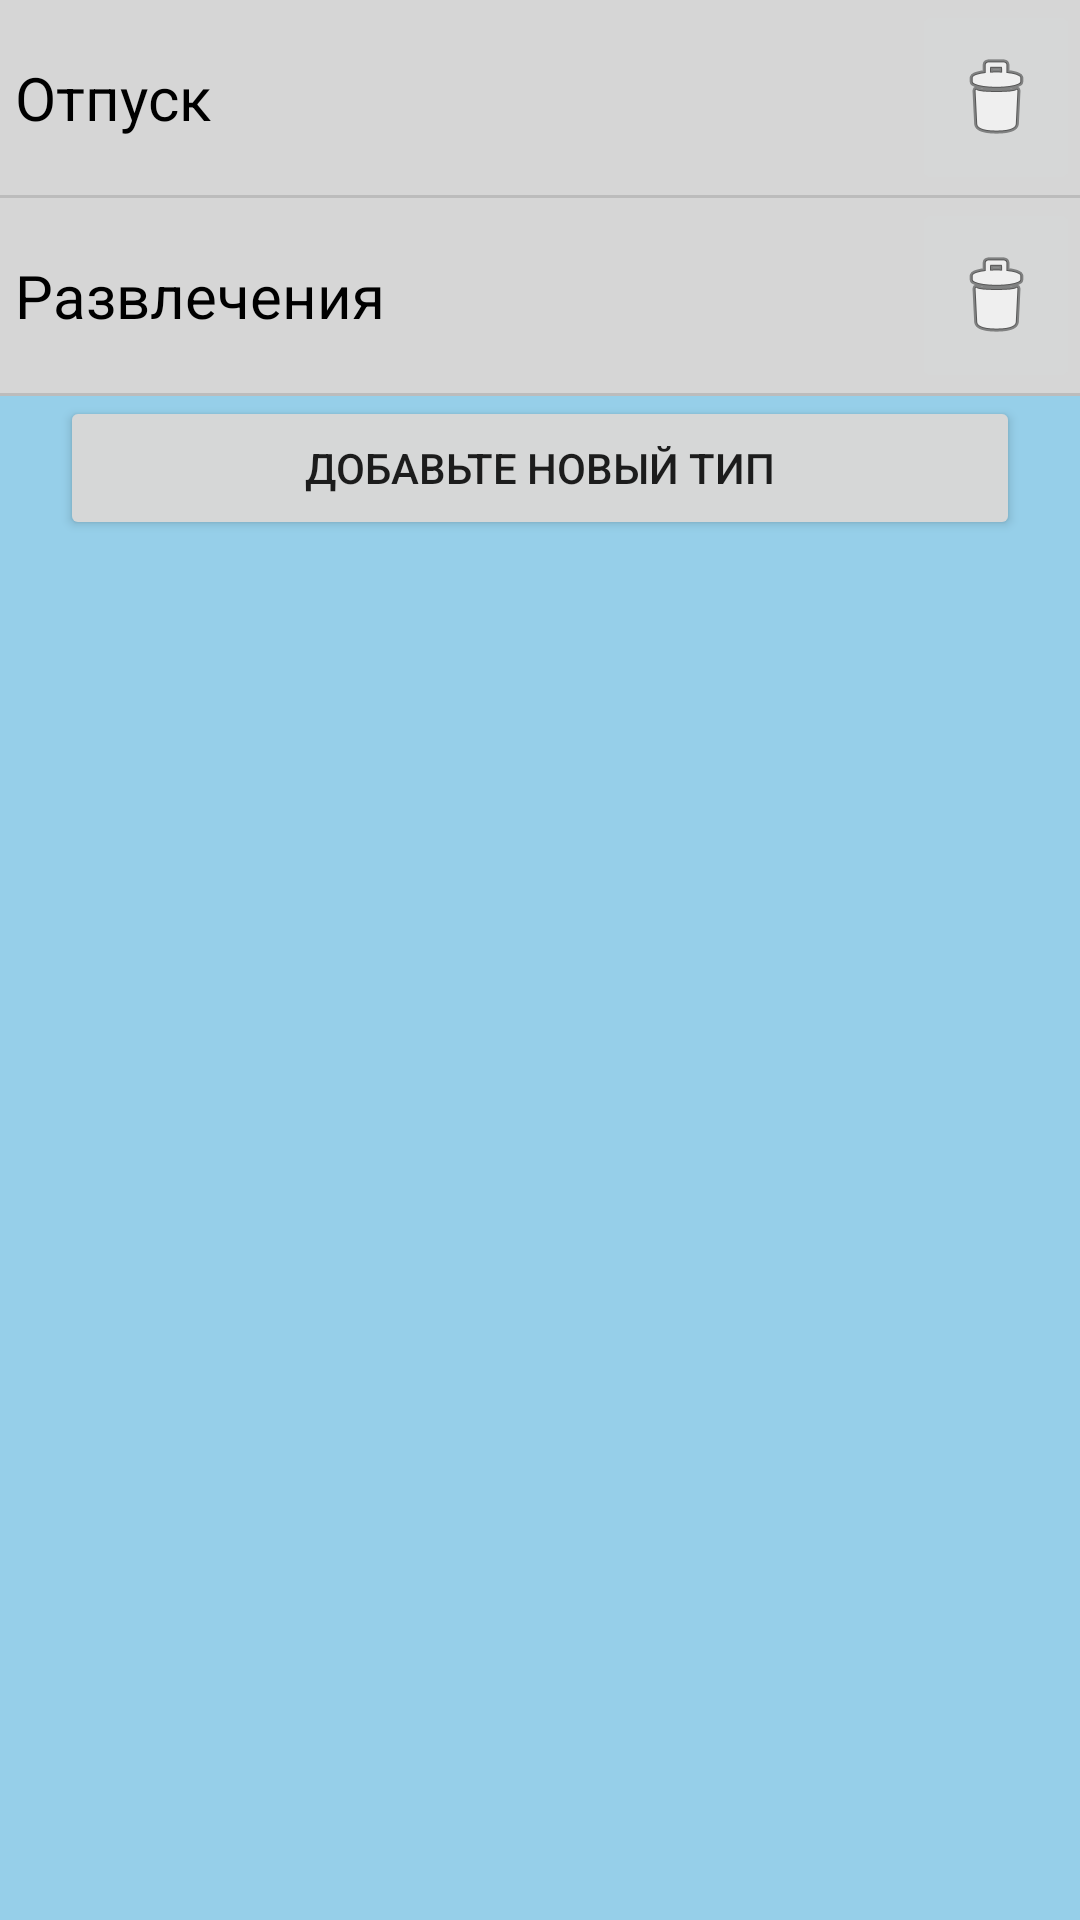

Where to tap for icons on this 1080×1920 app screen, as (x=x, y=y):
delete: (x=996, y=96), (x=996, y=294)
